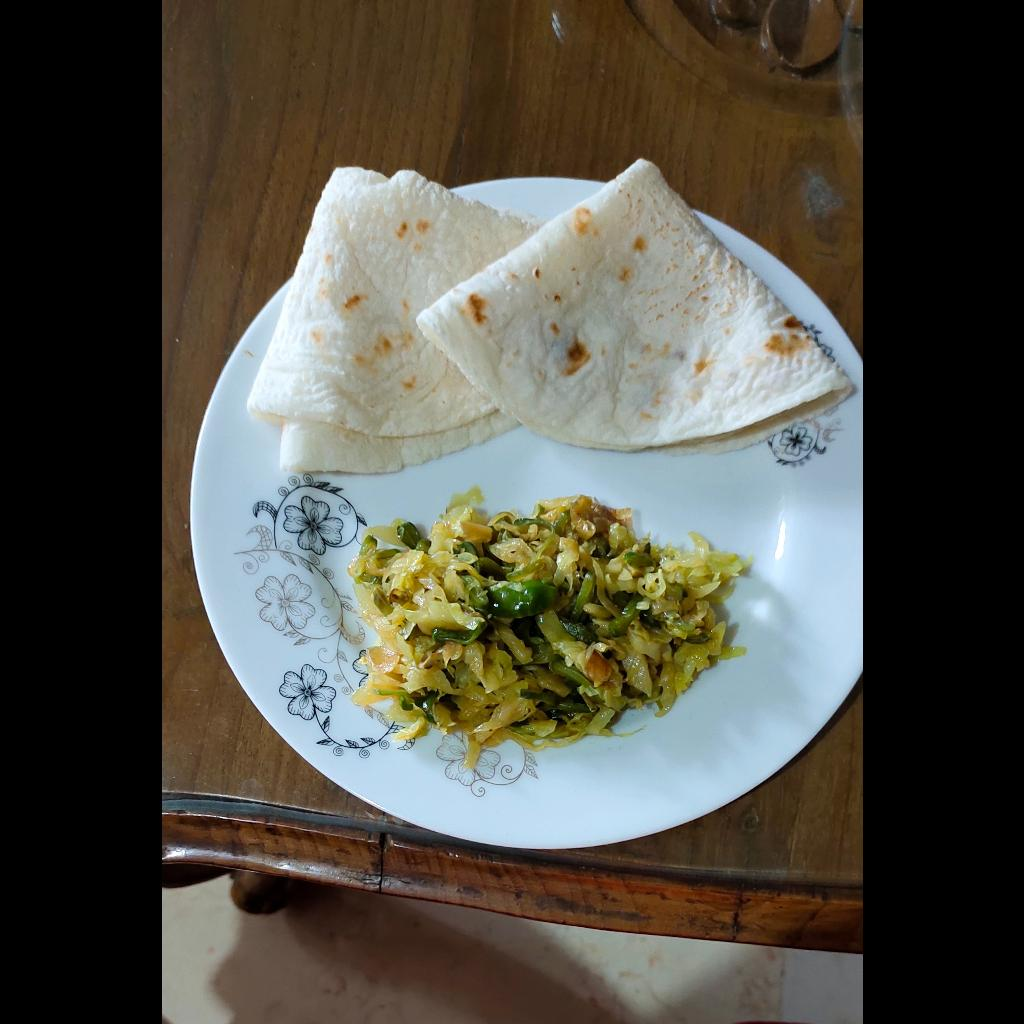cabbage: (349, 489, 750, 771)
ruti: (242, 154, 857, 475)
